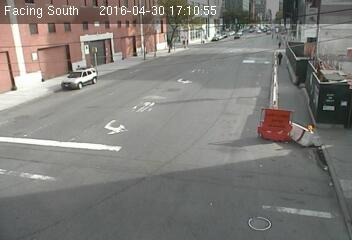neg: (135, 36, 145, 48), (173, 63, 182, 76), (217, 43, 225, 54), (102, 20, 110, 31), (239, 49, 247, 59), (169, 10, 175, 19), (111, 7, 116, 14), (64, 11, 68, 16)
pos: (274, 50, 286, 66), (275, 32, 282, 41), (277, 40, 283, 49), (269, 32, 274, 39)
